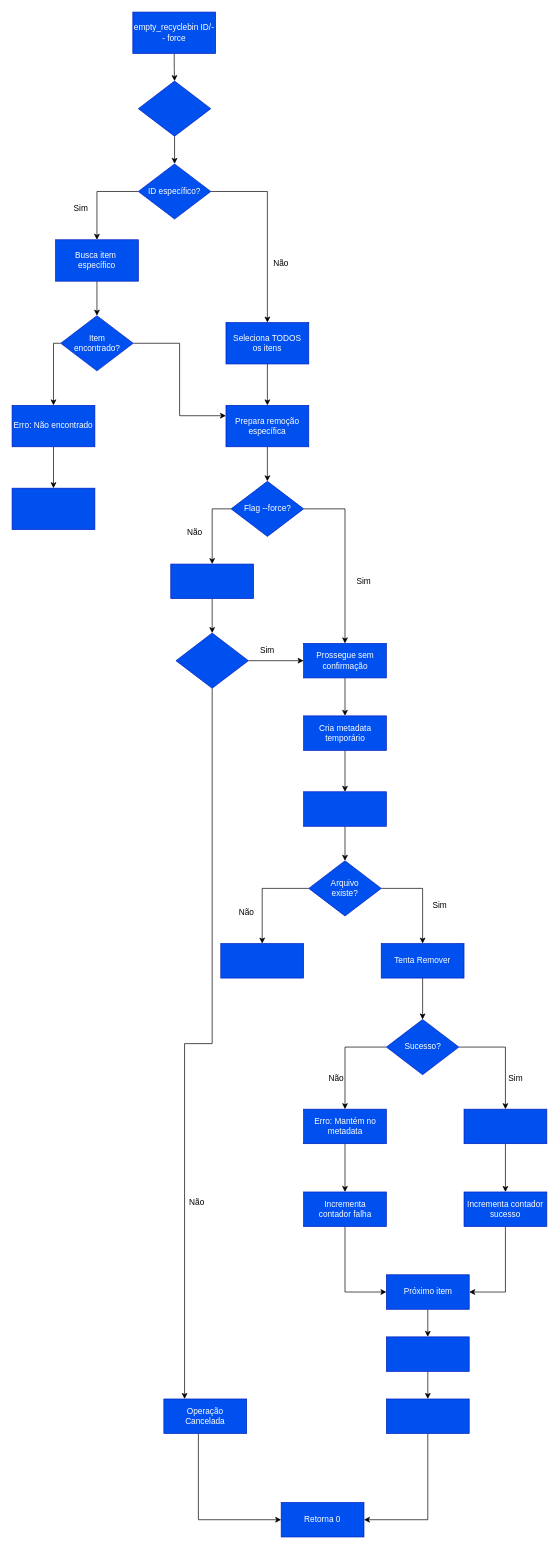
This 559x1549 diagram has some shape labels left out. The centre of each missing label's shape, as x and y in pixels:
Analise argumentos: [174,108]
Exibe resumo final: [427,1415]
Log erro: [262,960]
log_operation EMPTY: [505,1126]
Para cada item a remover: [344,808]
Pede confirmação: [212,581]
Retorna 1: [53,508]
Substitui metadata.db: [427,1353]
Usuário confirma?: [211,660]
